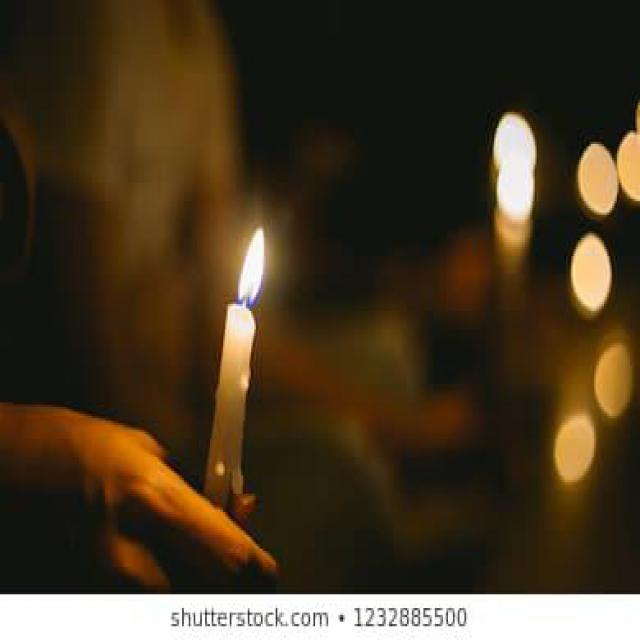Fire: (238, 228, 266, 306)
